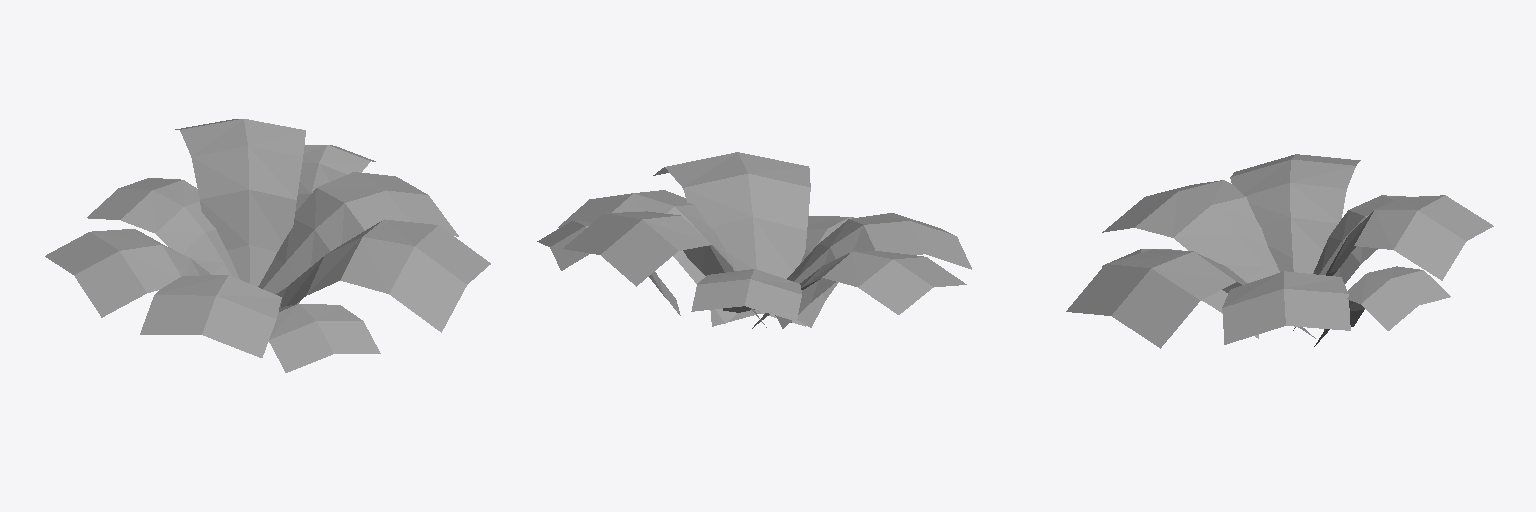
File: Plant_2.obj
3 views of the same model, side by side, from view 1: azimuth 30°, elevation 25°; view 2: azimuth 150°, elevation 25°; view 3: azimuth 270°, elevation 25° (orthographic).
Parts seen in each view (by area): view 1: Plant_2_Plane.042; view 2: Plant_2_Plane.042; view 3: Plant_2_Plane.042.
Boxes of the visible parts, box(x1,y1,x2,y2) form: Plant_2_Plane.042: box(45, 119, 490, 372); Plant_2_Plane.042: box(537, 152, 971, 328); Plant_2_Plane.042: box(1066, 154, 1493, 348).
Size of the model in its own units: 1.4 by 0.552 by 1.47.